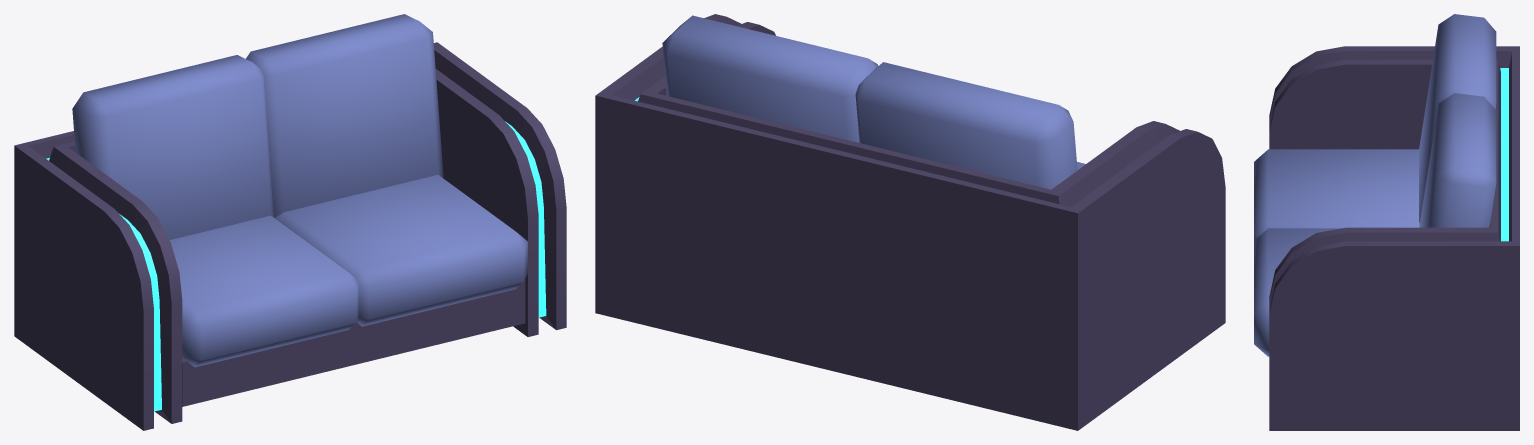
Rendered from Sofa.fbx.
3 views of the same model, side by side, from view 1: azimuth 30°, elevation 25°; view 2: azimuth 150°, elevation 25°; view 3: azimuth 270°, elevation 25° (orthographic). The views are drawn at different scales.
Visible parts, largest first — view 1: Sofa; view 2: Sofa; view 3: Sofa.
Boxes of the visible parts, x1=… form: Sofa: x1=14, y1=14, x2=566, y2=430; Sofa: x1=595, y1=14, x2=1225, y2=430; Sofa: x1=1254, y1=14, x2=1519, y2=430.
Bounding box in the file's own units: 274 × 154 × 154.
